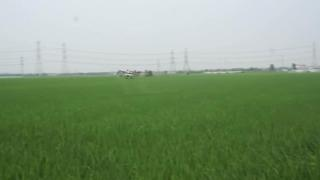UAV: (118, 70, 142, 79)
